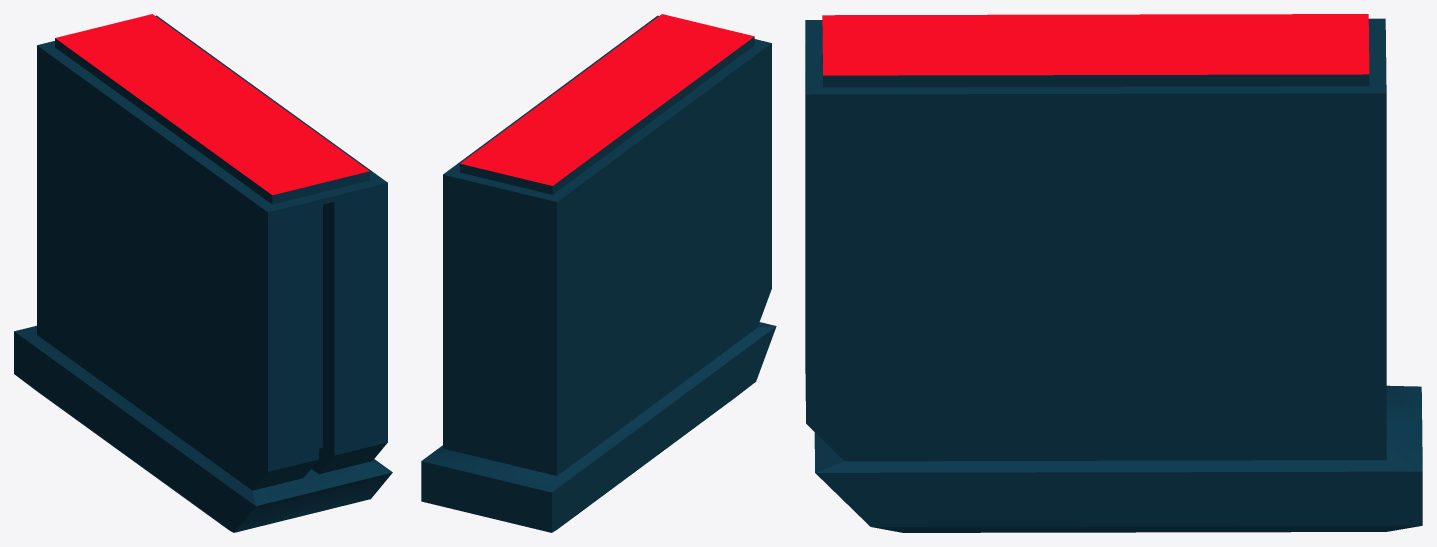
Rendered from CargadorSnap.fbx.
3 renders of one model, left to right at view 1: azimuth 30°, elevation 25°; view 2: azimuth 150°, elevation 25°; view 3: azimuth 270°, elevation 25°, orthographic. The views are drawn at different scales.
Parts seen in each view (by area): view 1: Cargador Snap; view 2: Cargador Snap; view 3: Cargador Snap.
Part boxes in pixels (x1,y1,x2,y2): Cargador Snap: (14, 14, 392, 532); Cargador Snap: (421, 14, 776, 532); Cargador Snap: (805, 14, 1422, 532).
Size of the model in its own units: 12.48 by 30.34 by 37.69.
